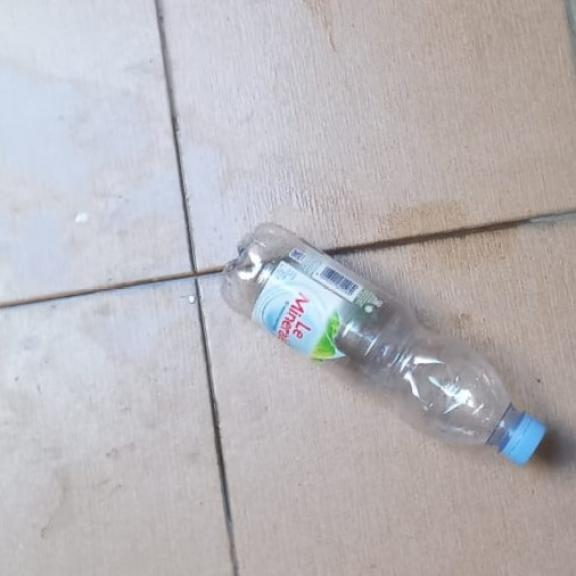Plastik: (220, 221, 547, 467)
